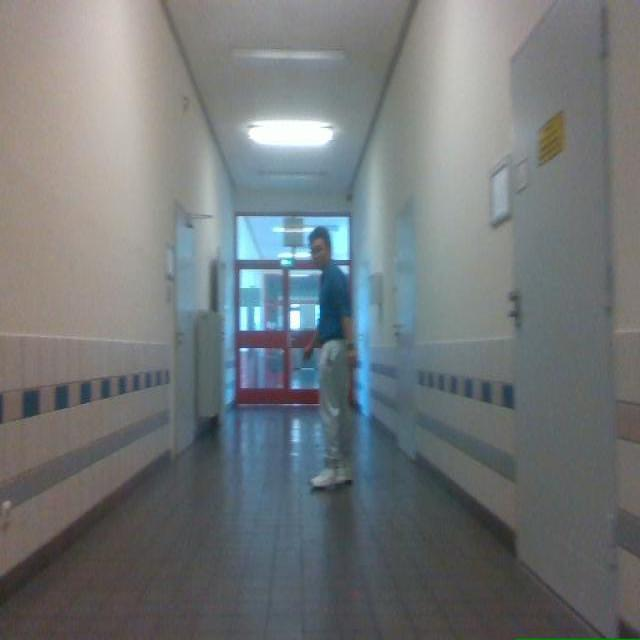humans: (304, 227, 356, 487)
